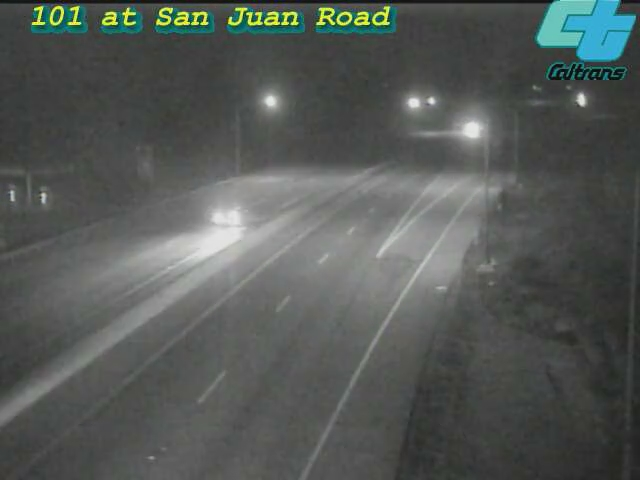vehicle: (186, 177, 266, 257), (449, 105, 499, 155)
